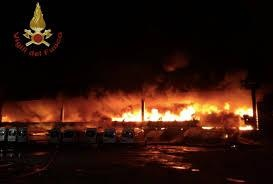fire: (110, 95, 258, 126)
